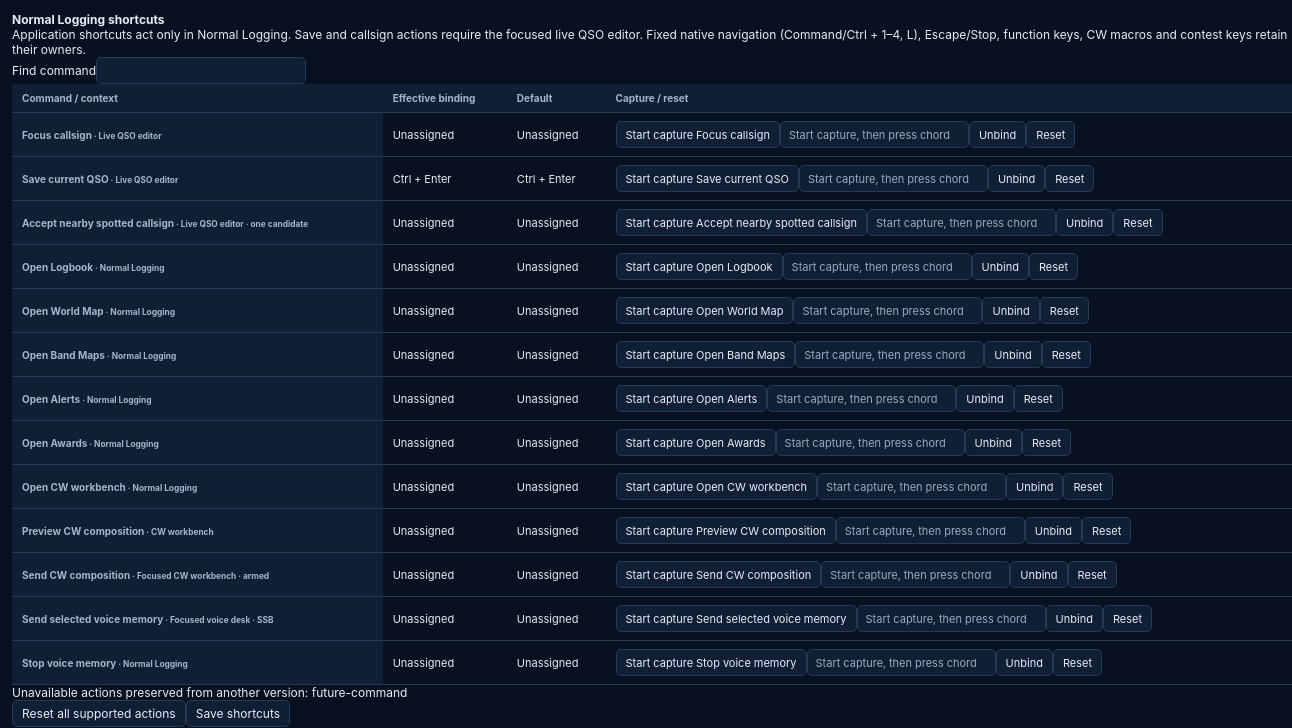
Scenario: keeps recording disabled until the exact native guard request is acknowledged
Click the button "Start capture Save current QSO" at (707, 178), box [616,165,799,192]
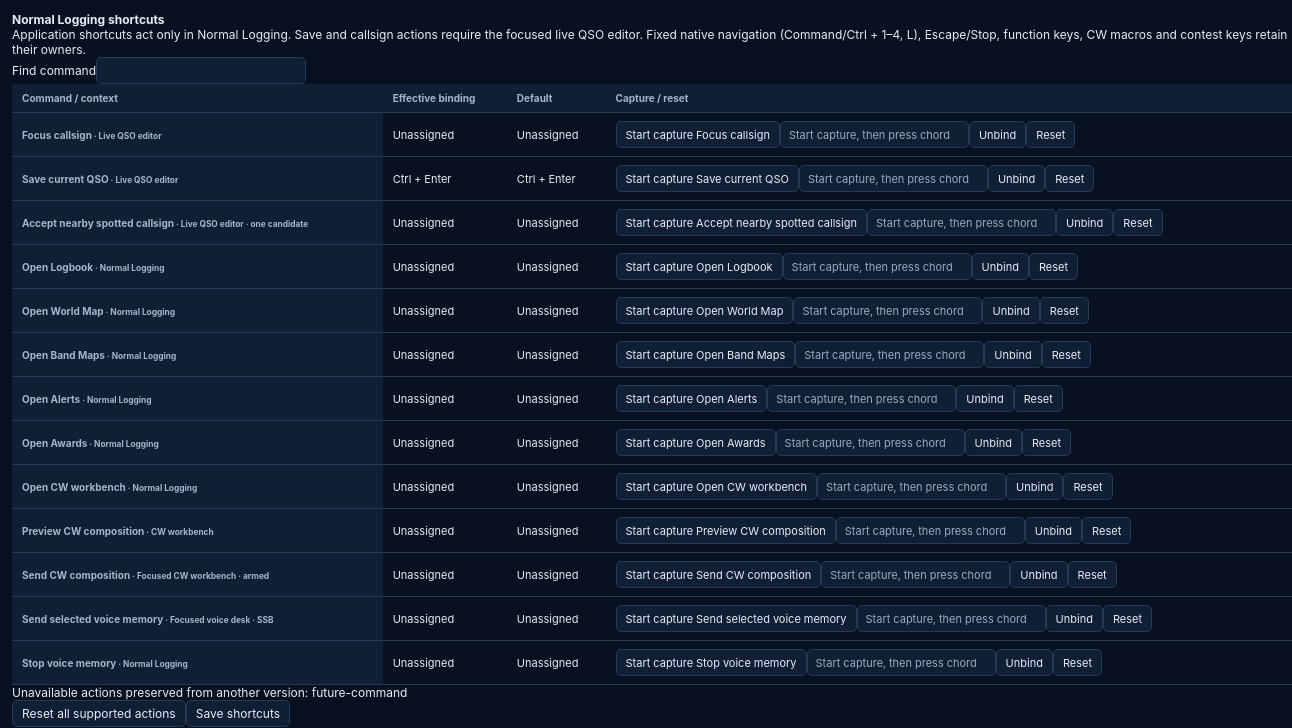
Press j in the field named "Capture Save current QSO", box [799,165,988,192]
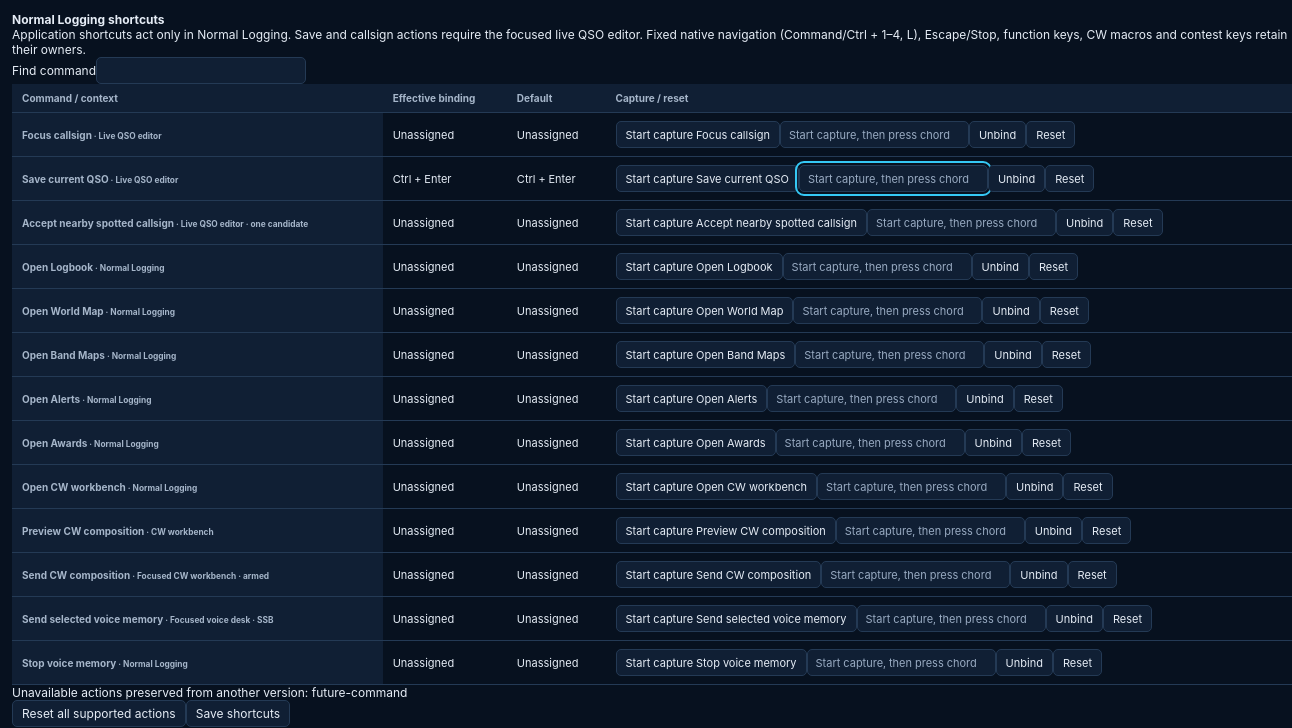
Press j in the field named "Capture Save current QSO", box [799,165,988,192]
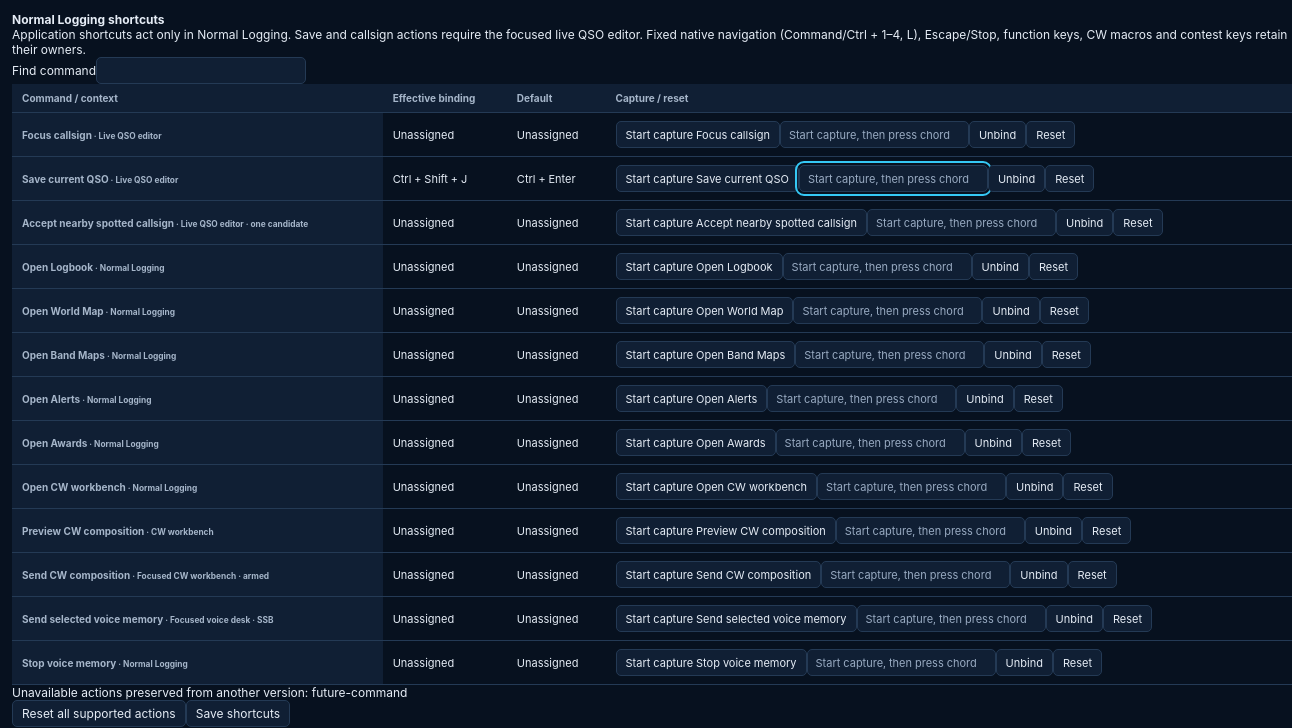
Expected: the text "Ctrl + Shift + J" is shown, [383,156,507,200]
